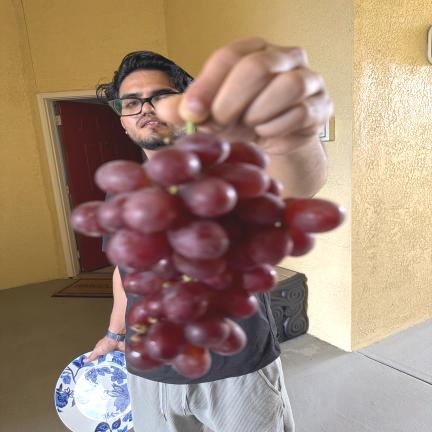grape_cluster: (71, 124, 345, 378)
